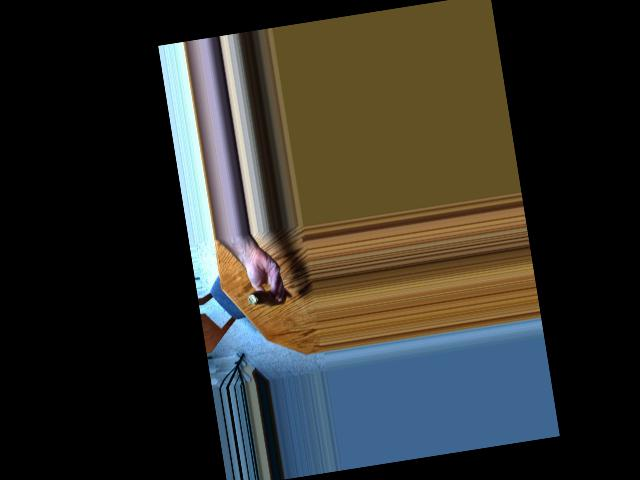sweet_potato: (252, 291, 287, 309)
